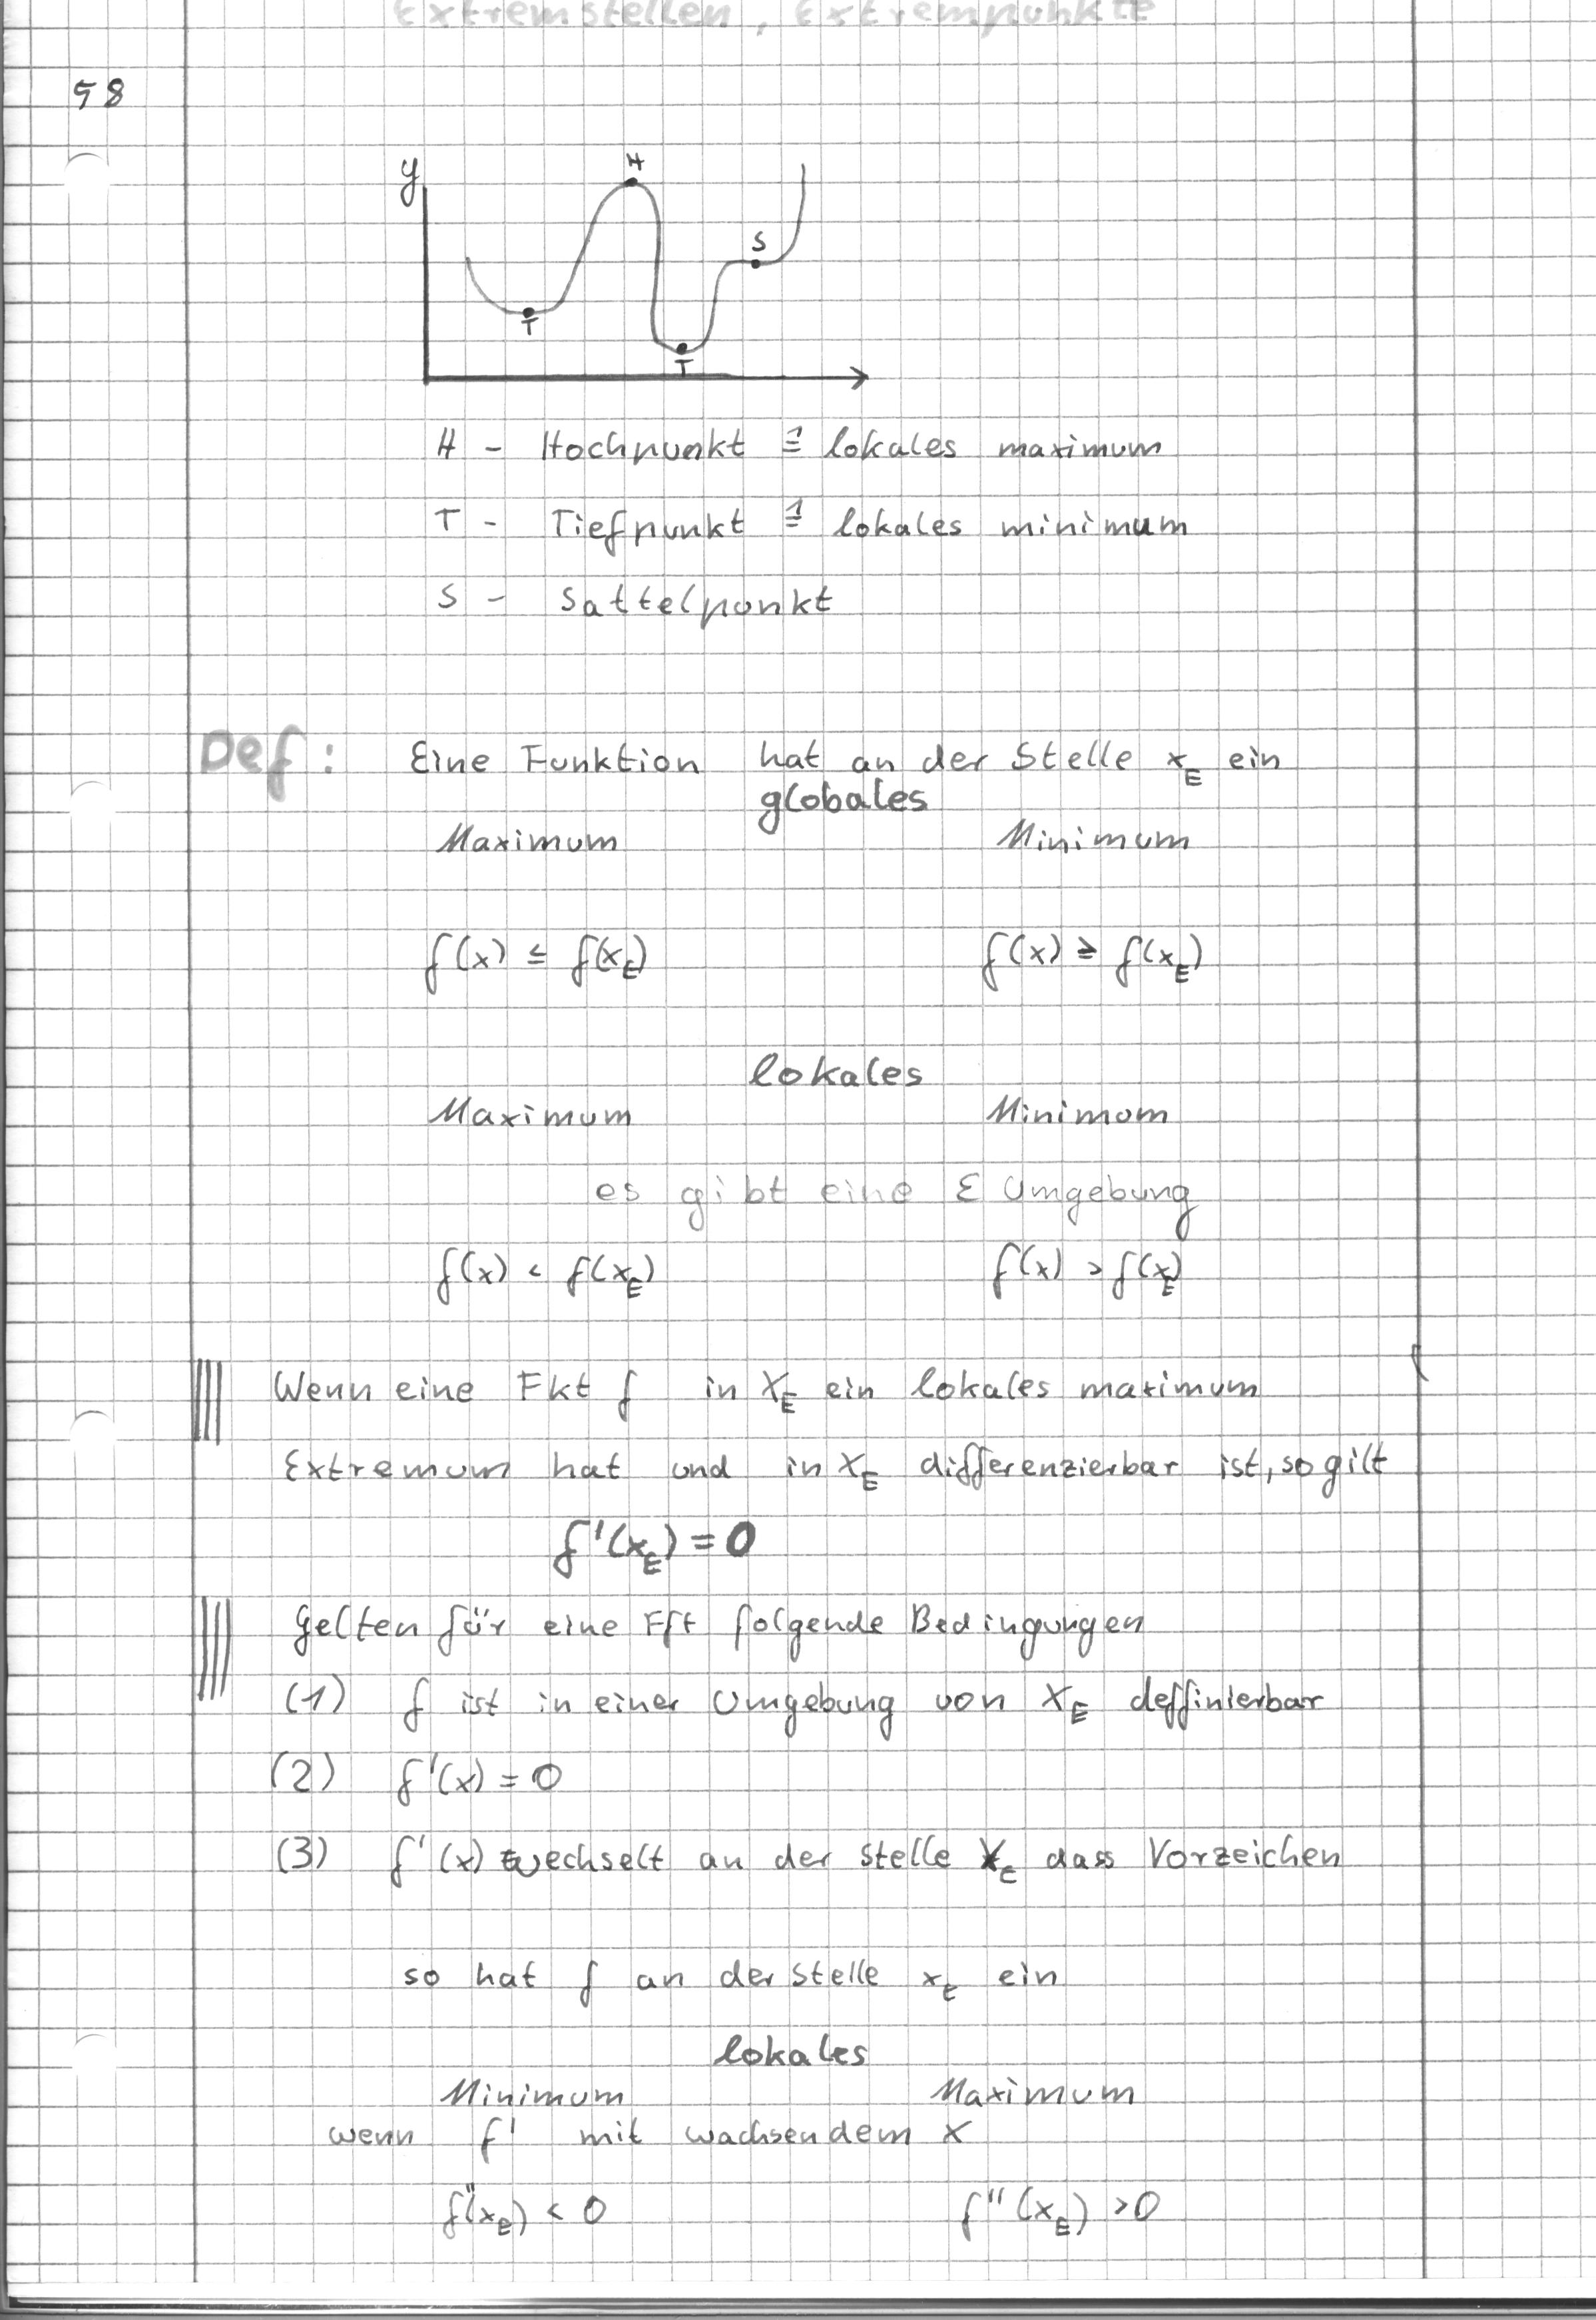word: (269, 1821, 1352, 2012), (413, 408, 1206, 646), (270, 1361, 1393, 1510), (314, 2069, 1177, 2262), (271, 1597, 1335, 1735), (407, 814, 668, 1139), (966, 810, 1214, 1138), (402, 730, 1294, 795), (964, 1217, 1208, 1330), (419, 1226, 673, 1324), (261, 1742, 579, 1817)
